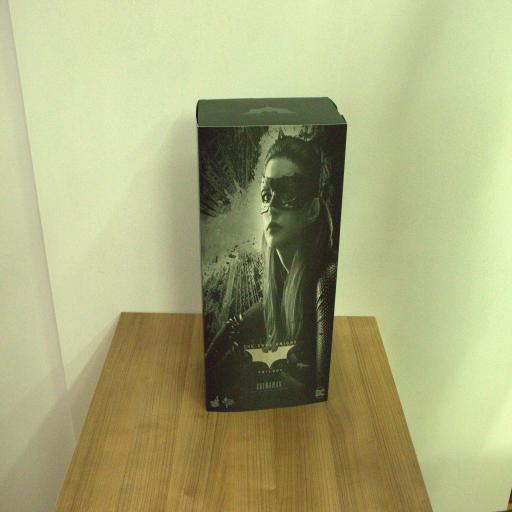catwoman: (194, 96, 346, 412)
